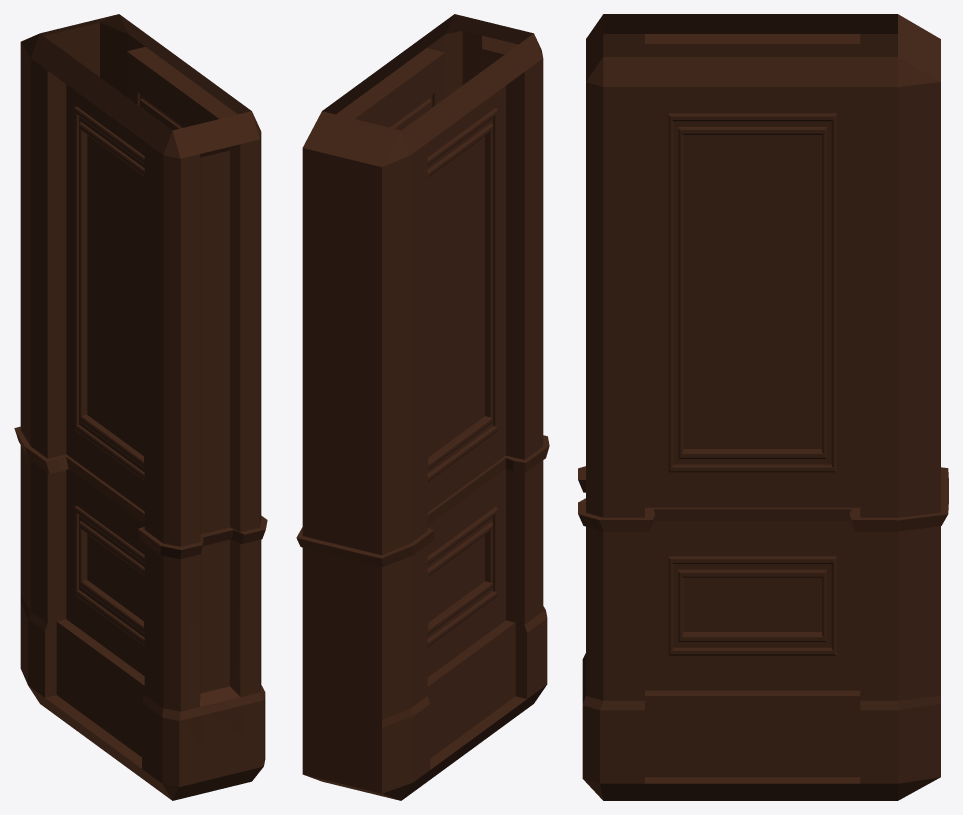
Rendered from half wall.fbx.
The picture shows the model from 3 angles, left to right: view 1: azimuth 30°, elevation 25°; view 2: azimuth 150°, elevation 25°; view 3: azimuth 270°, elevation 25°; orthographic projection. The views are drawn at different scales.
Parts seen in each view (by area): view 1: Cube.039; view 2: Cube.039; view 3: Cube.039.
Boxes of the visible parts, x1,y1,x2,y2 form: Cube.039: [14, 14, 267, 800]; Cube.039: [296, 14, 549, 800]; Cube.039: [578, 14, 948, 800].
Bounding box in the file's own units: 684 × 4100 × 1852.
